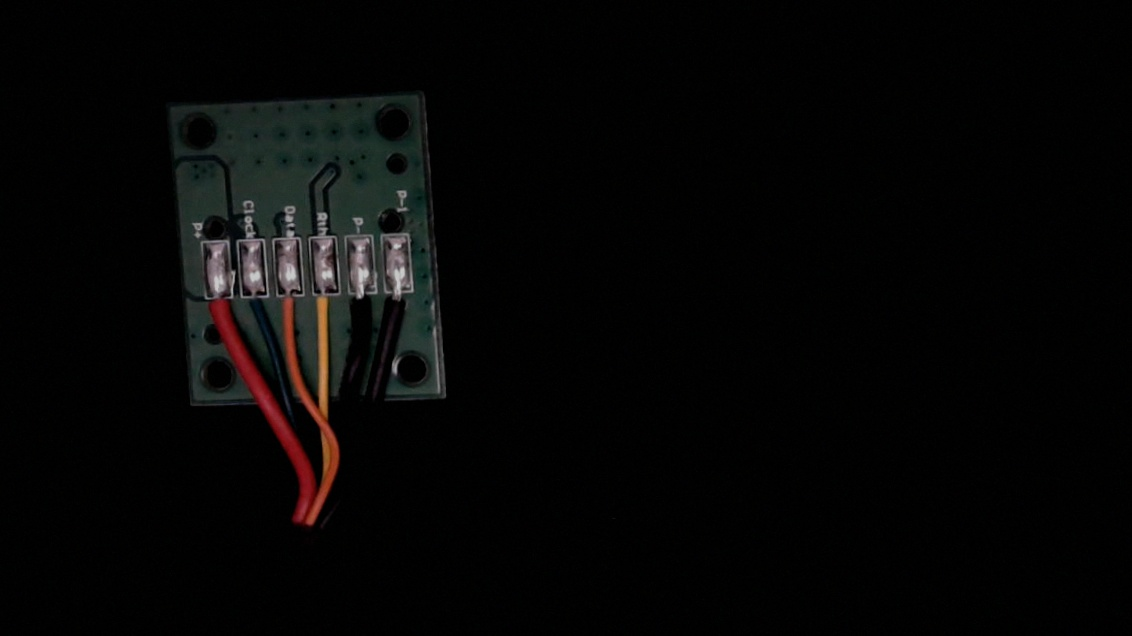Black: (346, 271, 379, 338)
Black1: (383, 272, 415, 334)
Green: (238, 278, 271, 342)
Orange: (274, 274, 306, 340)
Red: (202, 279, 235, 343)
Yellow: (306, 274, 340, 342)
